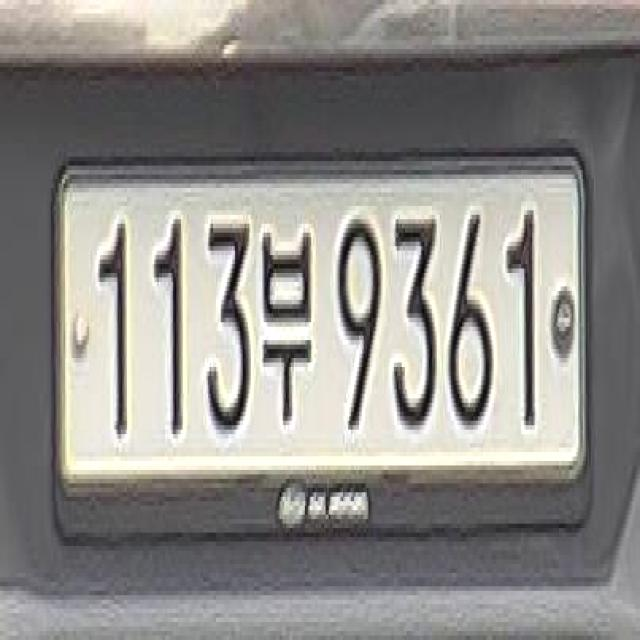illegal_plate: (55, 144, 593, 542)
